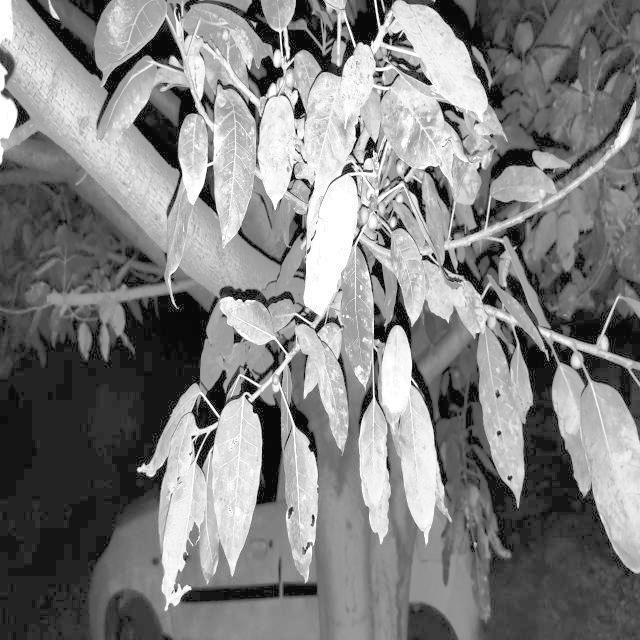Tree: (0, 0, 447, 640)
